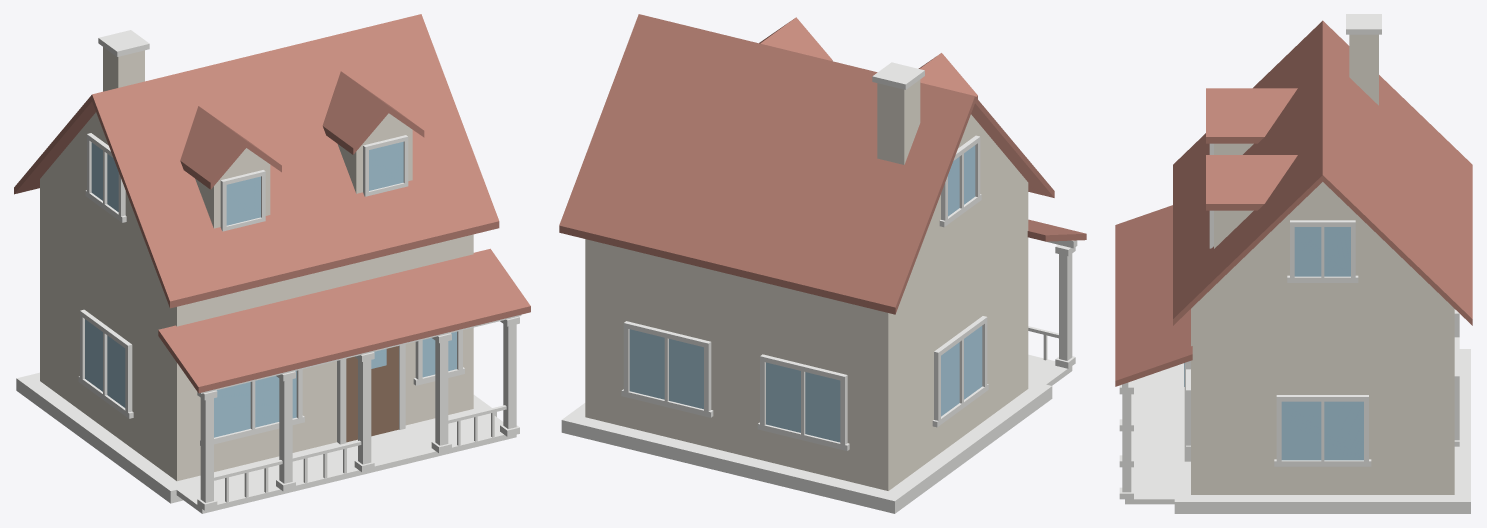
File: rumah_g.fbx
The picture shows the model from 3 angles, left to right: view 1: azimuth 30°, elevation 25°; view 2: azimuth 150°, elevation 25°; view 3: azimuth 270°, elevation 25°; orthographic projection. The views are drawn at different scales.
Parts seen in each view (by area): view 1: ShellRoof, ShellWall, ShellTrim, ShellGlass, ShellDoor; view 2: ShellRoof, ShellWall, ShellTrim, ShellGlass; view 3: ShellWall, ShellRoof, ShellTrim, ShellGlass.
Boxes of the visible parts, left/top/right/bottom form: ShellRoof: left=14, top=14, right=530, bottom=393; ShellWall: left=40, top=47, right=473, bottom=481; ShellTrim: left=16, top=30, right=521, bottom=513; ShellGlass: left=85, top=141, right=456, bottom=437; ShellDoor: left=346, top=346, right=398, bottom=442; ShellRoof: left=559, top=14, right=1086, bottom=314; ShellWall: left=585, top=79, right=1028, bottom=490; ShellTrim: left=561, top=62, right=1077, bottom=513; ShellGlass: left=629, top=145, right=982, bottom=442; ShellWall: left=1191, top=34, right=1454, bottom=494; ShellRoof: left=1115, top=20, right=1472, bottom=386; ShellTrim: left=1119, top=14, right=1470, bottom=513; ShellGlass: left=1184, top=227, right=1363, bottom=460.
Size of the model in its own units: 22.4 by 24.35 by 21.7.
